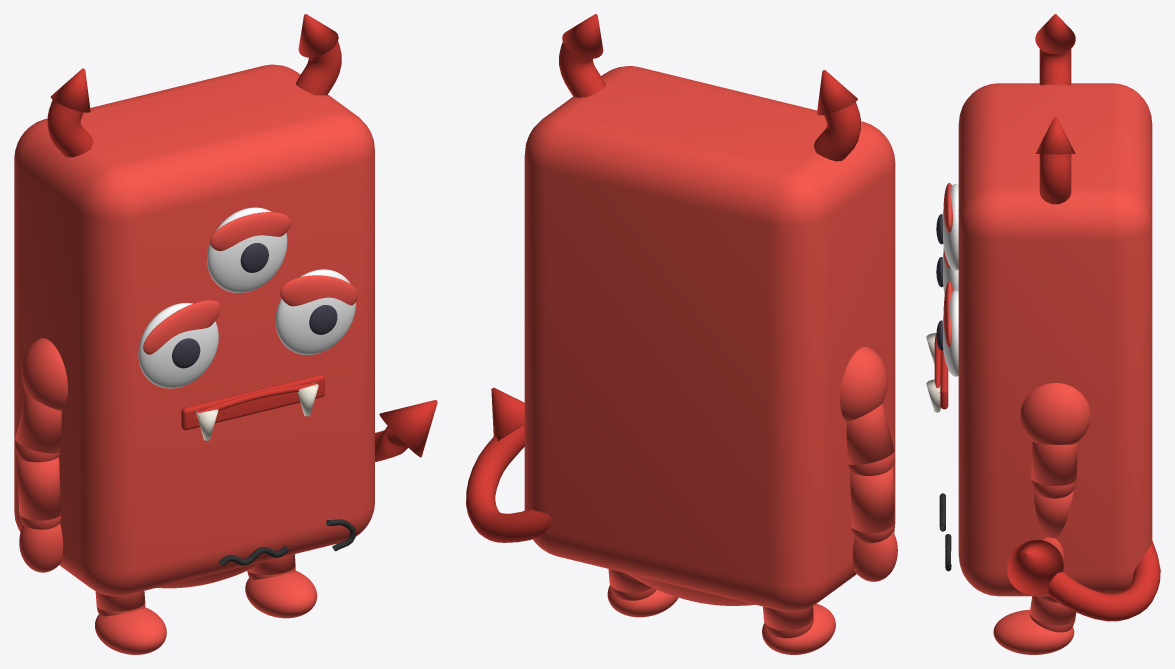
File: galih_v6.glb
The picture shows the model from 3 angles, left to right: view 1: azimuth 30°, elevation 25°; view 2: azimuth 150°, elevation 25°; view 3: azimuth 270°, elevation 25°; orthographic projection. The views are drawn at different scales.
Visible parts, largest first — view 1: BODY, EYE.LEFT, EYE.RIGHT, EYE.TOP, FOOT.R, FOOT.L, SHOULDER.L, FOREARM.L, MOUTH.BACKING, UPPER_ARM.L, EYE.LEFT.LID, EYE.TOP.LID (+15 smaller); view 2: BODY, TAIL, SHOULDER.L, FOREARM.L, UPPER_ARM.L, HORN.L.BASE, FOOT.L, HAND.L.PALM, HORN.R.BASE, TAIL.ARROW, HORN.R.TIP, FOOT.R (+4 smaller); view 3: BODY, TAIL, SHOULDER.R, TAIL.ARROW, FOOT.R, UPPER_ARM.R, HORN.R.BASE, FOREARM.R, HORN.L.TIP, HORN.L.BASE, CALF.R, EYE.RIGHT (+6 smaller).
Boxes of the visible parts, x1,y1,x2,y2 form: BODY: [14, 64, 374, 596]; EYE.LEFT: [138, 303, 218, 388]; EYE.RIGHT: [275, 269, 355, 354]; EYE.TOP: [207, 207, 287, 292]; FOOT.R: [245, 570, 317, 618]; FOOT.L: [95, 607, 166, 654]; SHOULDER.L: [21, 338, 67, 410]; FOREARM.L: [17, 456, 60, 520]; MOUTH.BACKING: [181, 374, 324, 430]; UPPER_ARM.L: [15, 393, 61, 453]; EYE.LEFT.LID: [143, 300, 220, 354]; EYE.TOP.LID: [210, 212, 290, 250]; BODY: [524, 66, 895, 612]; TAIL: [466, 425, 552, 542]; SHOULDER.L: [840, 347, 887, 421]; FOREARM.L: [850, 466, 894, 532]; UPPER_ARM.L: [846, 403, 894, 465]; HORN.L.BASE: [814, 102, 860, 161]; FOOT.L: [762, 603, 835, 654]; HAND.L.PALM: [853, 532, 897, 581]; HORN.R.BASE: [559, 42, 605, 97]; TAIL.ARROW: [491, 387, 524, 440]; HORN.R.TIP: [562, 14, 603, 58]; FOOT.R: [607, 585, 678, 617]; BODY: [958, 83, 1152, 596]; TAIL: [1046, 541, 1160, 621]; SHOULDER.R: [1020, 383, 1090, 444]; TAIL.ARROW: [1007, 540, 1063, 594]; FOOT.R: [993, 609, 1074, 654]; UPPER_ARM.R: [1031, 441, 1077, 485]; HORN.R.BASE: [1039, 154, 1071, 204]; FOREARM.R: [1033, 489, 1073, 538]; HORN.L.TIP: [1035, 14, 1075, 54]; HORN.L.BASE: [1039, 49, 1071, 85]; CALF.R: [1029, 596, 1076, 625]; EYE.RIGHT: [942, 290, 958, 376].
Bounding box in the file's own units: 3.07 × 4.2 × 1.62.
